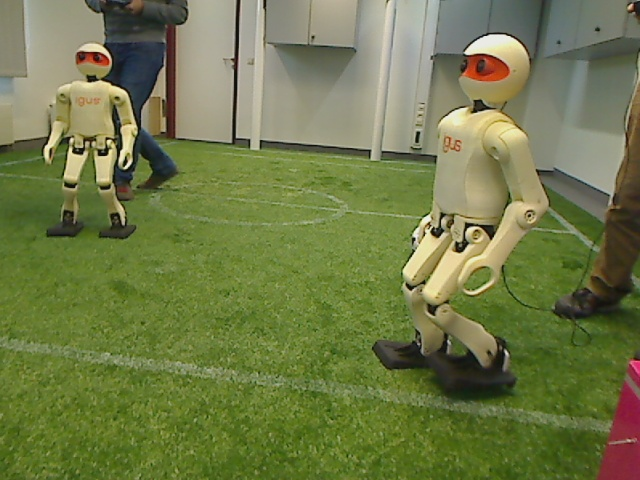robot: (378, 25, 545, 400), (46, 43, 137, 243)
